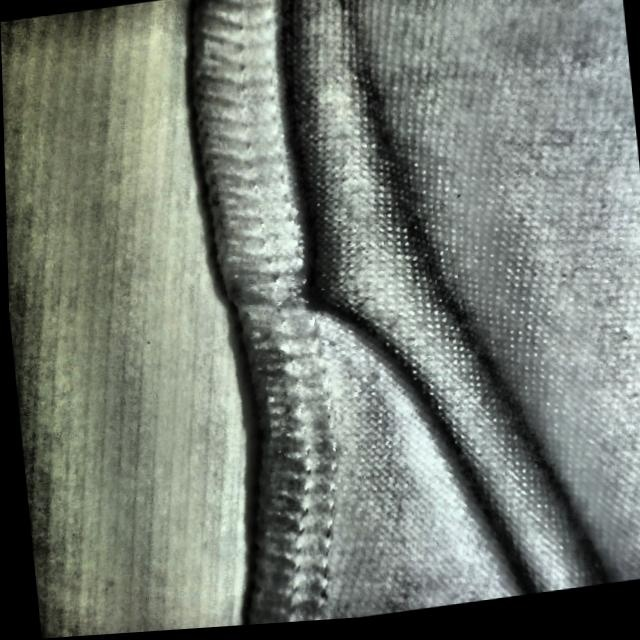seam: (190, 126, 482, 415)
